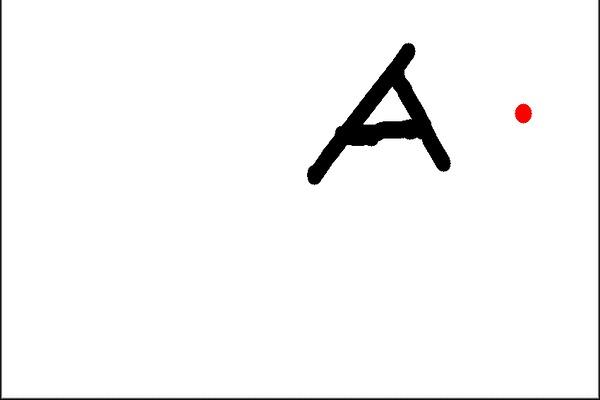A: (301, 37, 460, 187)
